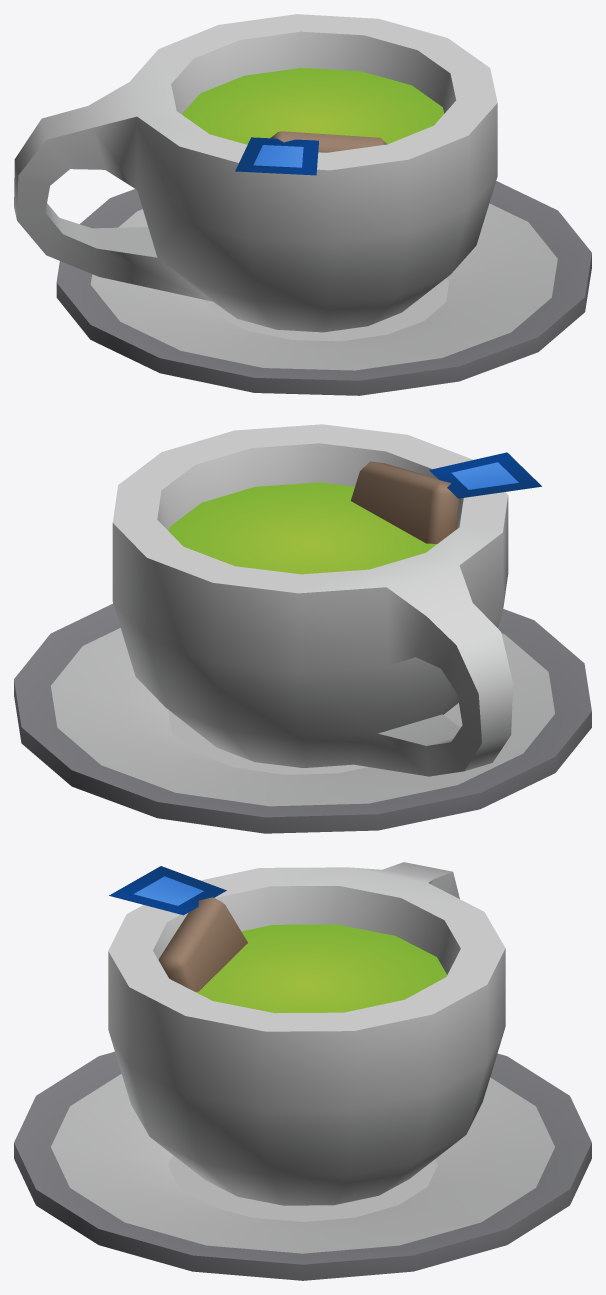
File: Product Tea.fbx
The picture shows the model from 3 angles, top to bottom: view 1: azimuth 30°, elevation 25°; view 2: azimuth 150°, elevation 25°; view 3: azimuth 270°, elevation 25°; orthographic projection. The views are drawn at different scales.
Visible parts, largest first — view 1: Product_Tea; view 2: Product_Tea; view 3: Product_Tea.
Boxes of the visible parts, x1,y1,x2,y2 form: Product_Tea: (14, 14, 591, 395); Product_Tea: (14, 424, 591, 833); Product_Tea: (14, 862, 591, 1280).
Bounding box in the file's own units: 140 × 62.03 × 136.
